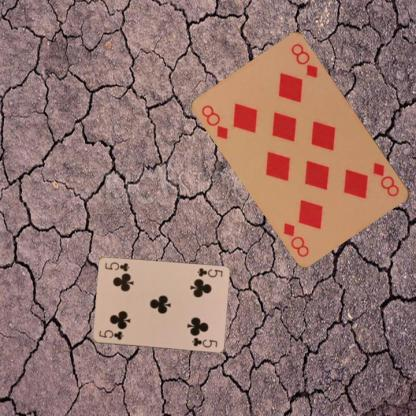5c: (97, 327, 124, 342), (194, 266, 224, 279)
8d: (199, 102, 230, 141), (370, 160, 401, 198)
